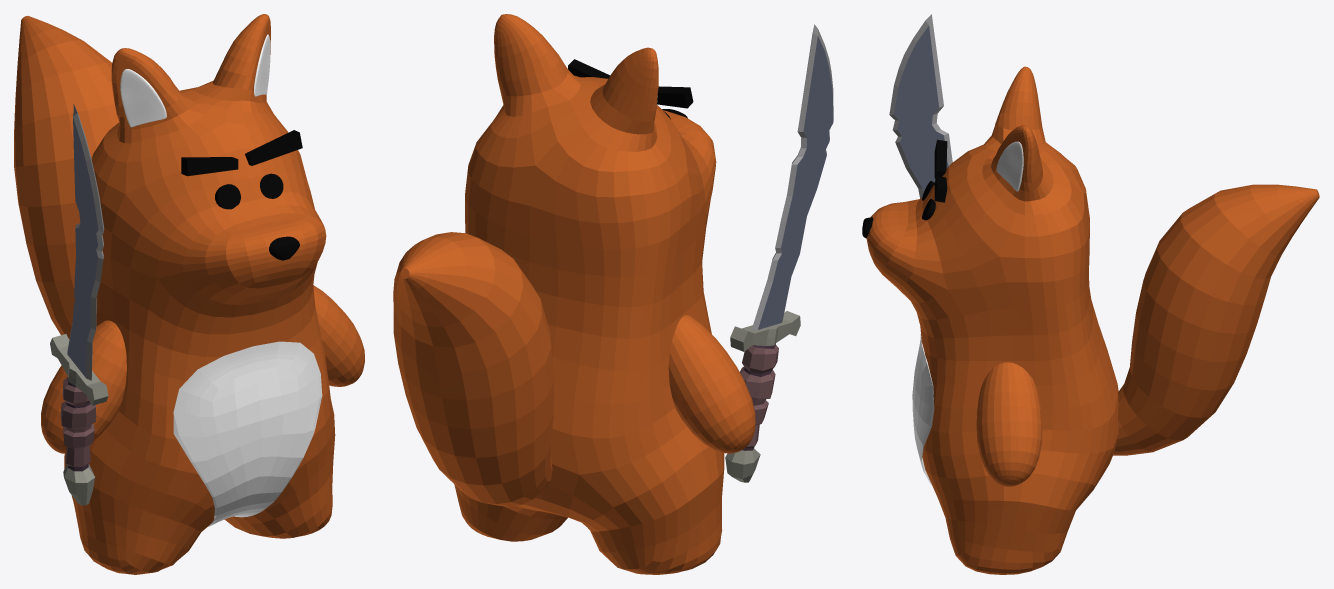
Rendered from acornicus.fbx.
3 views of the same model, side by side, from view 1: azimuth 30°, elevation 25°; view 2: azimuth 150°, elevation 25°; view 3: azimuth 270°, elevation 25° (orthographic). The views are drawn at different scales.
Parts seen in each view (by area): view 1: Squirrel Body, Dagger, BrowR, BrowL; view 2: Squirrel Body, Dagger, BrowL; view 3: Squirrel Body, Dagger.
Part boxes in pixels (left/top/right/bottom): Squirrel Body: left=14, top=14, right=364, bottom=574; Dagger: left=50, top=104, right=108, bottom=505; BrowR: left=245, top=130, right=302, bottom=165; BrowL: left=181, top=157, right=238, bottom=176; Squirrel Body: left=393, top=14, right=755, bottom=574; Dagger: left=725, top=24, right=833, bottom=482; BrowL: left=657, top=86, right=693, bottom=108; Squirrel Body: left=862, top=66, right=1319, bottom=574; Dagger: left=889, top=14, right=952, bottom=198.
Size of the model in its own units: 104 by 153 by 142.
